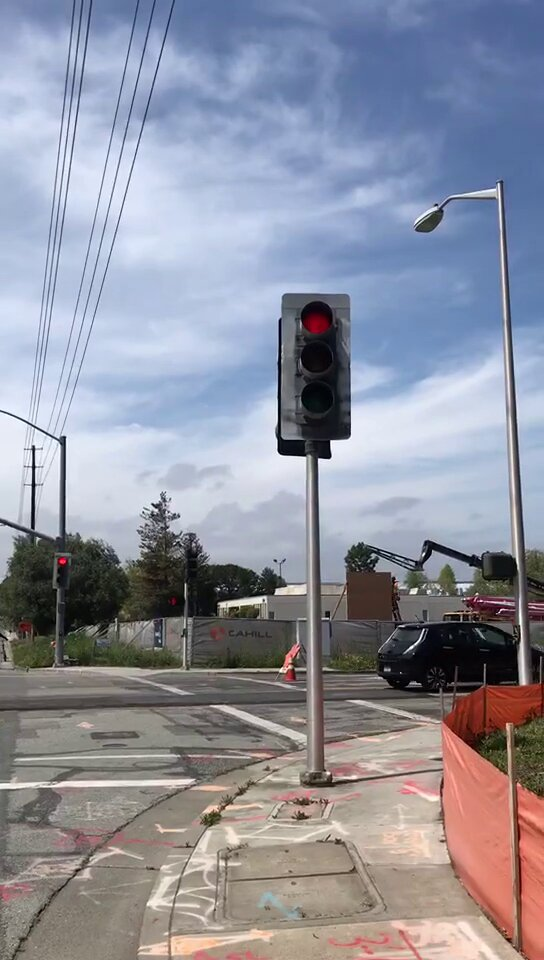red_light: (282, 296, 348, 433), (54, 552, 72, 587)
